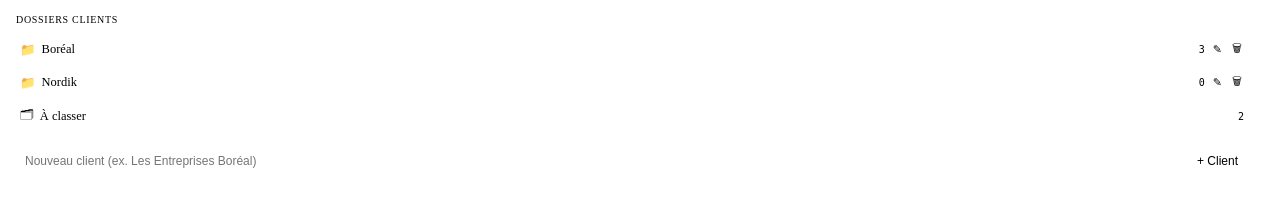
Scenario: client folder tree › shows the server's reason when a folder is refused
Type "Boréal" into the field named "Nom du client" at point(598, 161), box [16,148,1181,174]
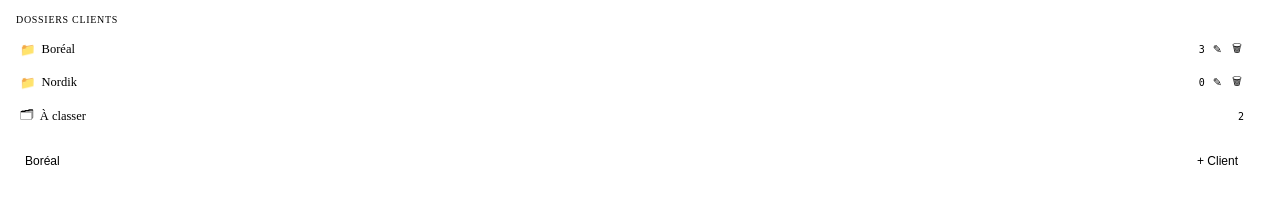
Click the button "+ Client" at point(1218, 161), box [1187,148,1248,174]
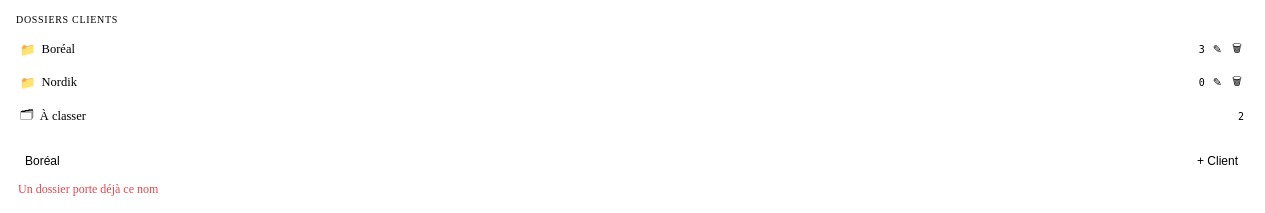
expect the message reads "Un dossier porte déjà ce nom": met, box [18,182,158,196]
